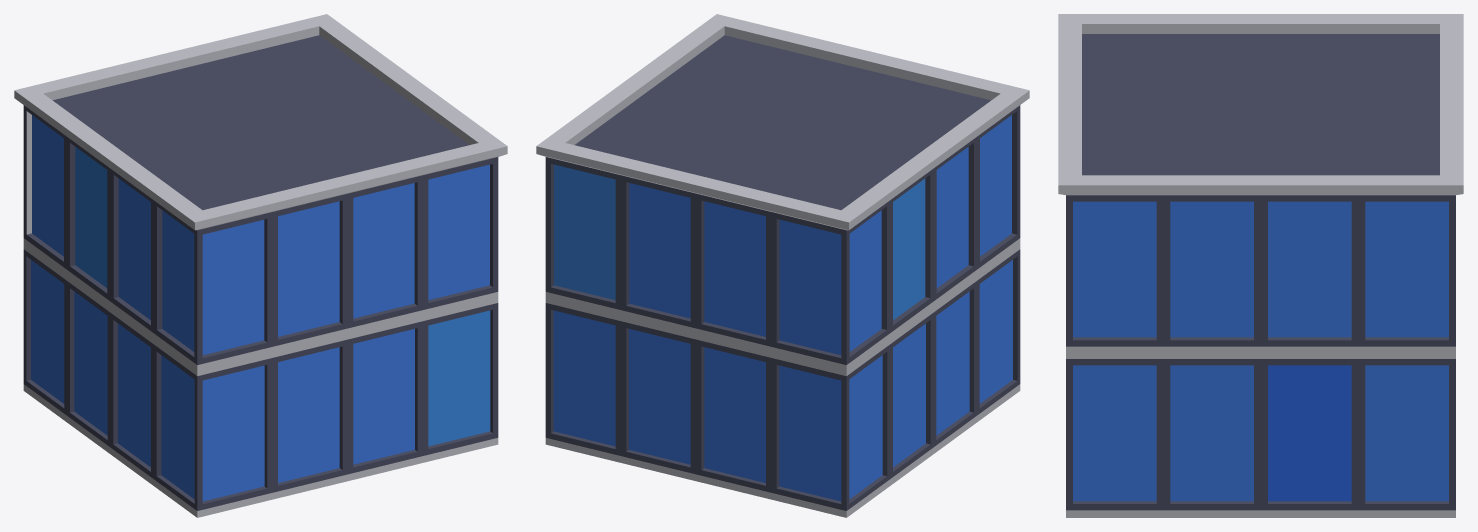
The model's file is building_1x1_6_r.glb.
3 views of the same model, side by side, from view 1: azimuth 30°, elevation 25°; view 2: azimuth 150°, elevation 25°; view 3: azimuth 270°, elevation 25° (orthographic). The views are drawn at different scales.
Parts seen in each view (by area): view 1: ThirdFloor; view 2: ThirdFloor; view 3: ThirdFloor.
Boxes of the visible parts, <box> form: ThirdFloor: <box>14,14,507,517</box>; ThirdFloor: <box>536,14,1029,517</box>; ThirdFloor: <box>1058,14,1463,517</box>.
Size of the model in its own units: 1.77 by 1.62 by 1.77.
